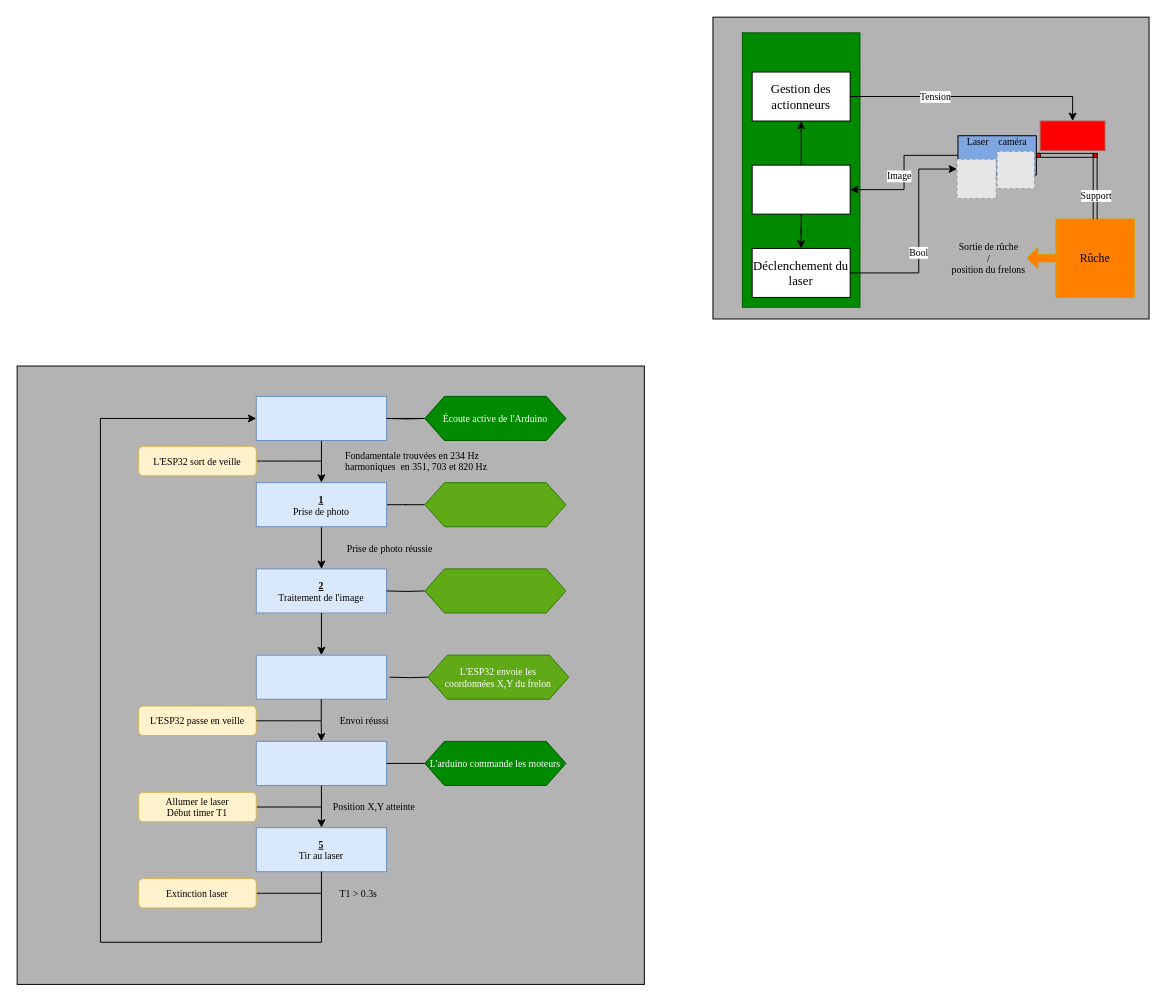
The diagram is 1166 pixels wide and 1002 high, and some of its shapes have lost their labels. Grey dashed boxes stand in for pictures. The box of each missing label's shape, as (x1, y1, x2, y2) in pixels:
0 Veille: (255, 395, 387, 441)
3 Envoie des coordonnées: (255, 654, 387, 699)
4 Gestion des moteurs: (255, 740, 387, 785)
Deux moteurs pas à pas: (1039, 120, 1105, 150)
L'ESP32 prend une photo: (424, 482, 566, 527)
L'ESP32 trouve le frelon: (424, 568, 566, 613)
Traitement de l'image: (751, 164, 850, 214)
µC: (741, 32, 860, 307)
